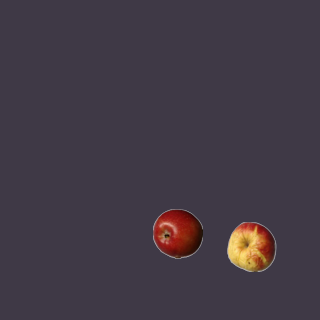Apple Braeburn: (152, 208, 202, 258)
Apple Red Yellow 1: (226, 221, 276, 271)
